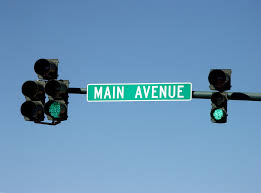traffic light: (12, 47, 78, 140), (197, 58, 239, 134)
